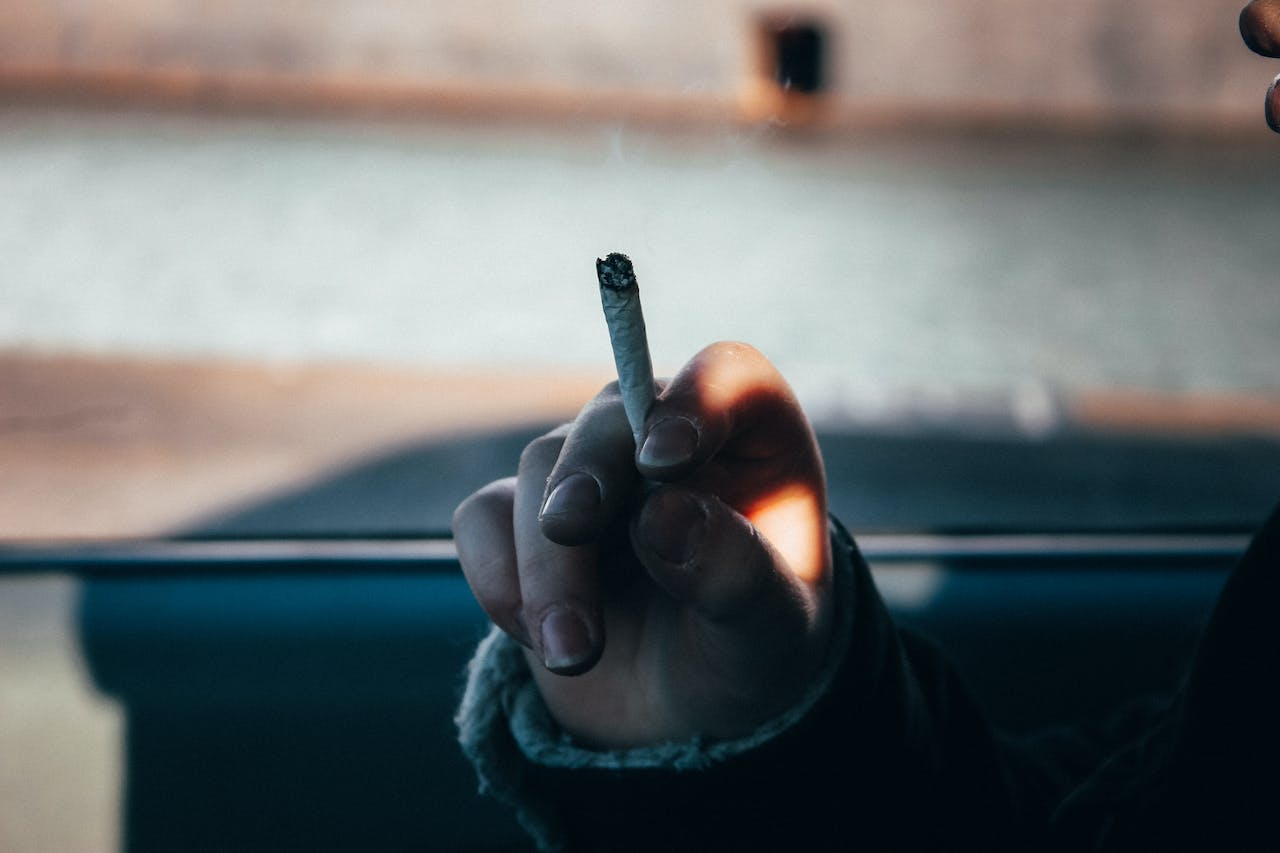Cigarette: (594, 252, 662, 450)
